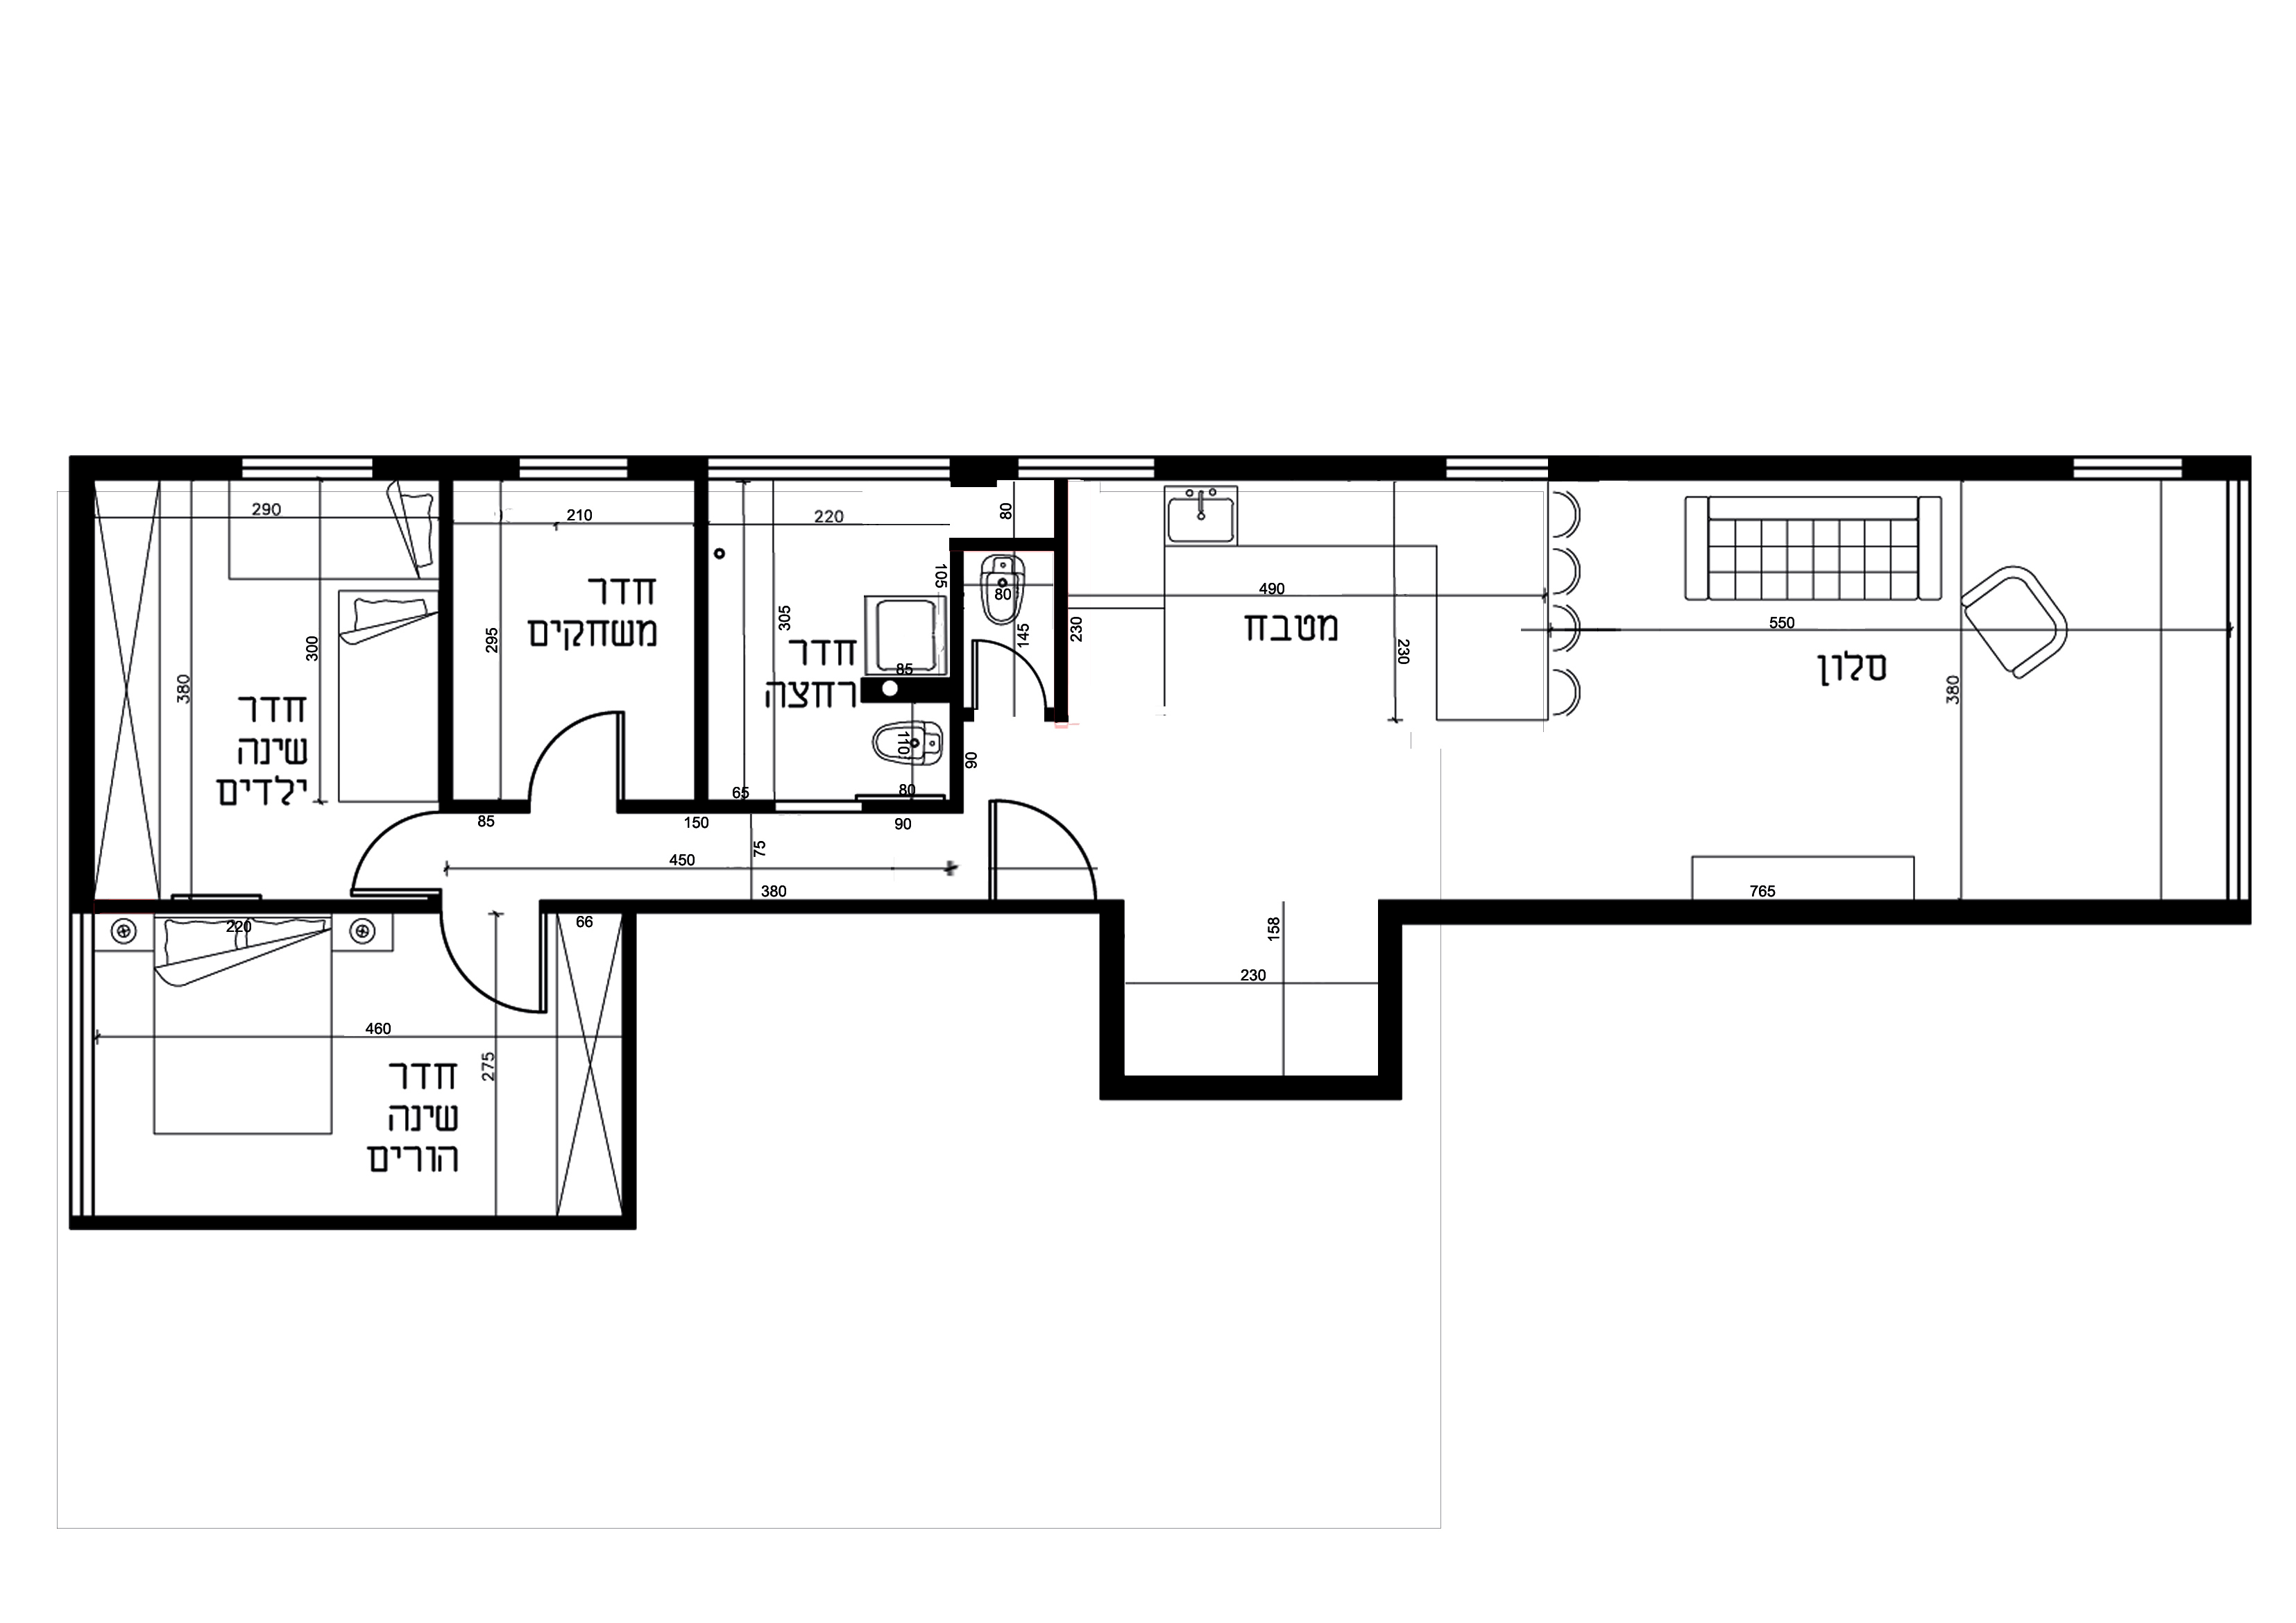door: (975, 790, 1107, 894), (432, 924, 555, 1021), (520, 708, 634, 799), (339, 804, 439, 903)
room: (65, 899, 639, 1233), (69, 457, 453, 912)
wall: (1379, 899, 2250, 926), (1548, 457, 2075, 481), (69, 457, 97, 917), (1100, 1075, 1400, 1101), (1100, 901, 1124, 1101), (1379, 901, 1402, 1101), (69, 457, 241, 480)
window: (710, 457, 950, 483), (1019, 453, 1154, 483), (2073, 451, 2184, 483), (1446, 457, 1549, 483), (242, 457, 372, 476), (522, 458, 627, 481)
